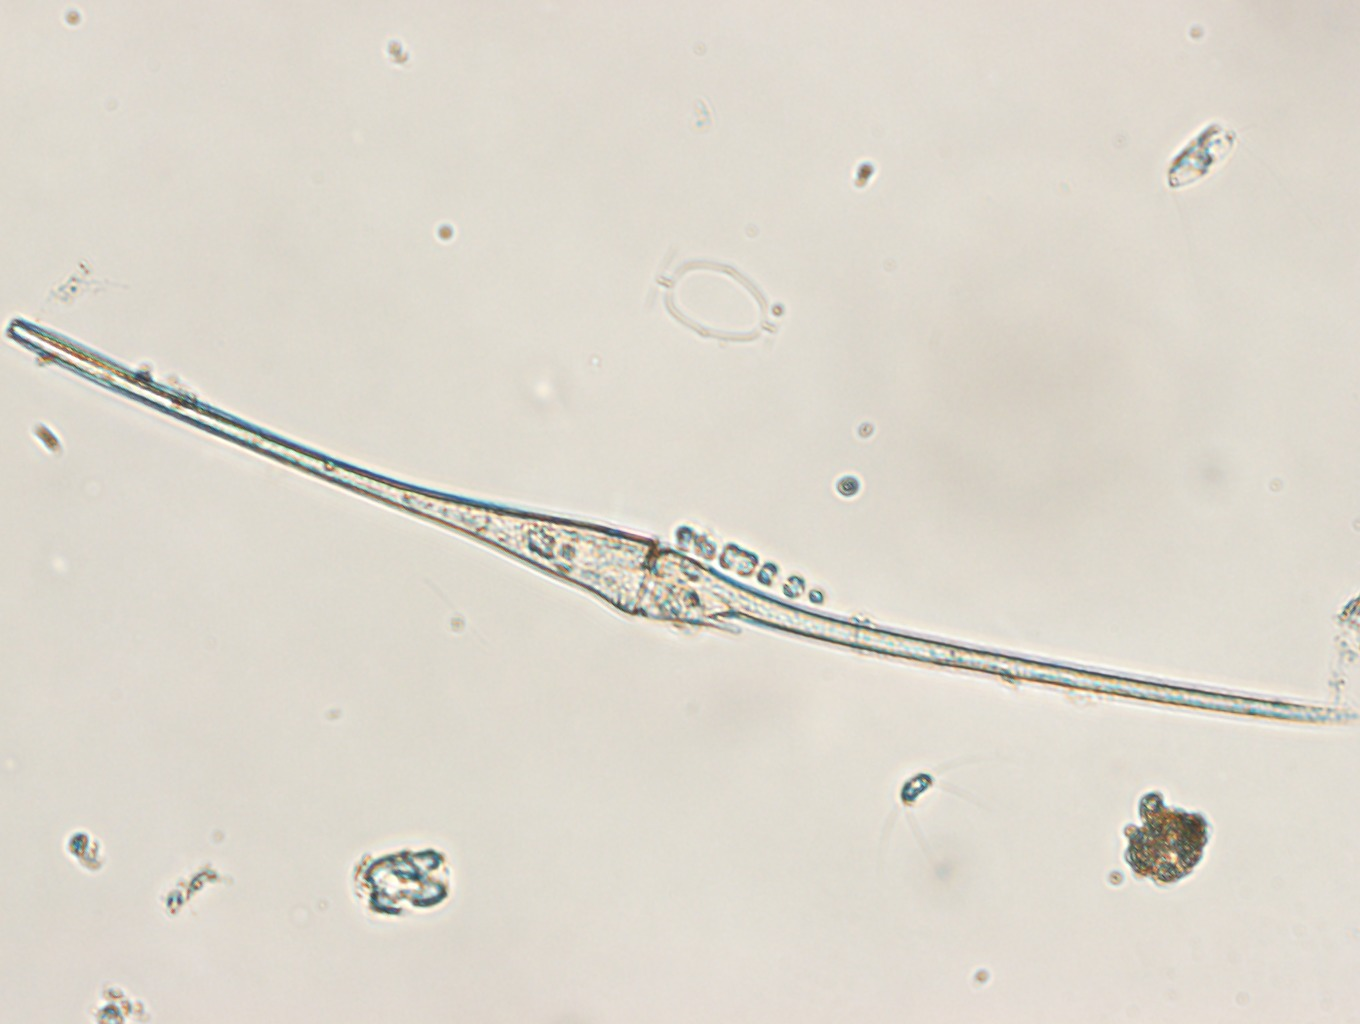ceratium fusus: (9, 318, 1355, 728)
